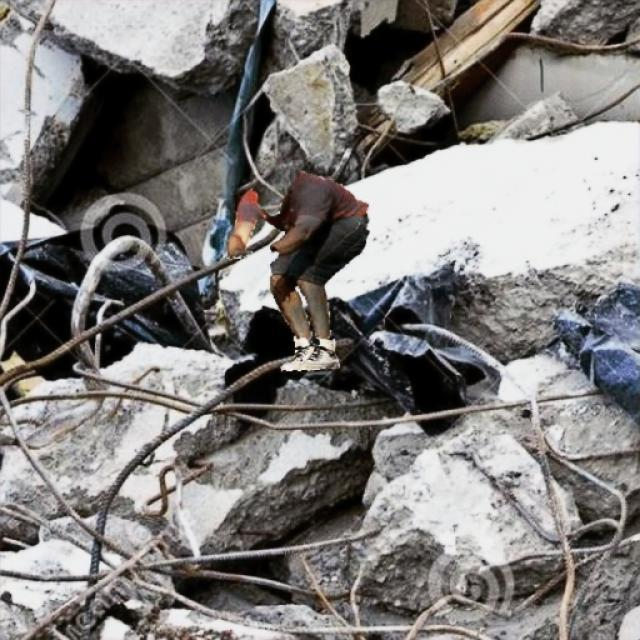Person in Rubble: (228, 171, 368, 370)
